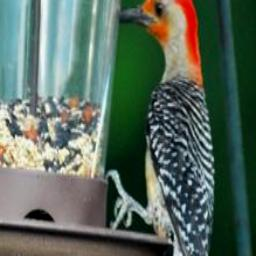Woodpecker: (106, 0, 219, 256)
